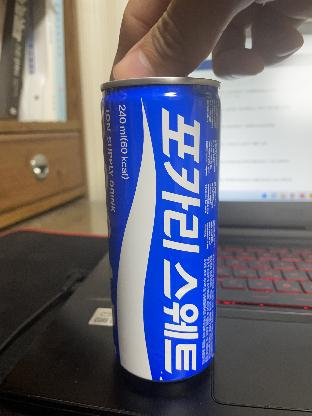Can: (101, 71, 221, 381)
